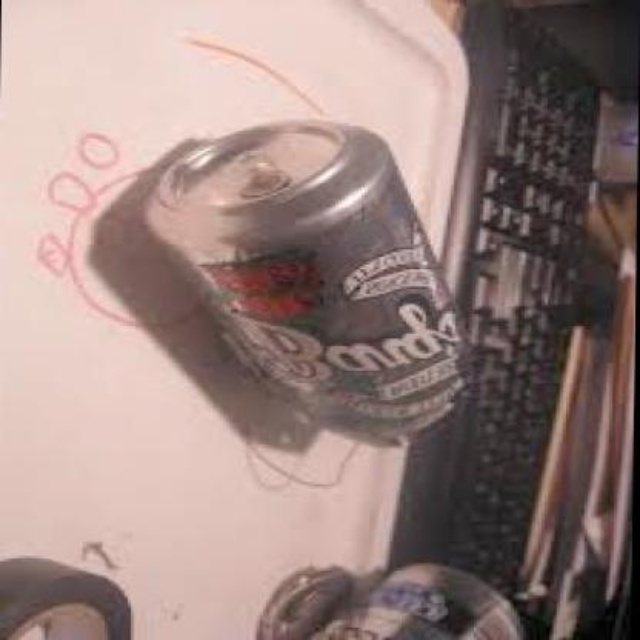trash: (145, 123, 460, 434)
